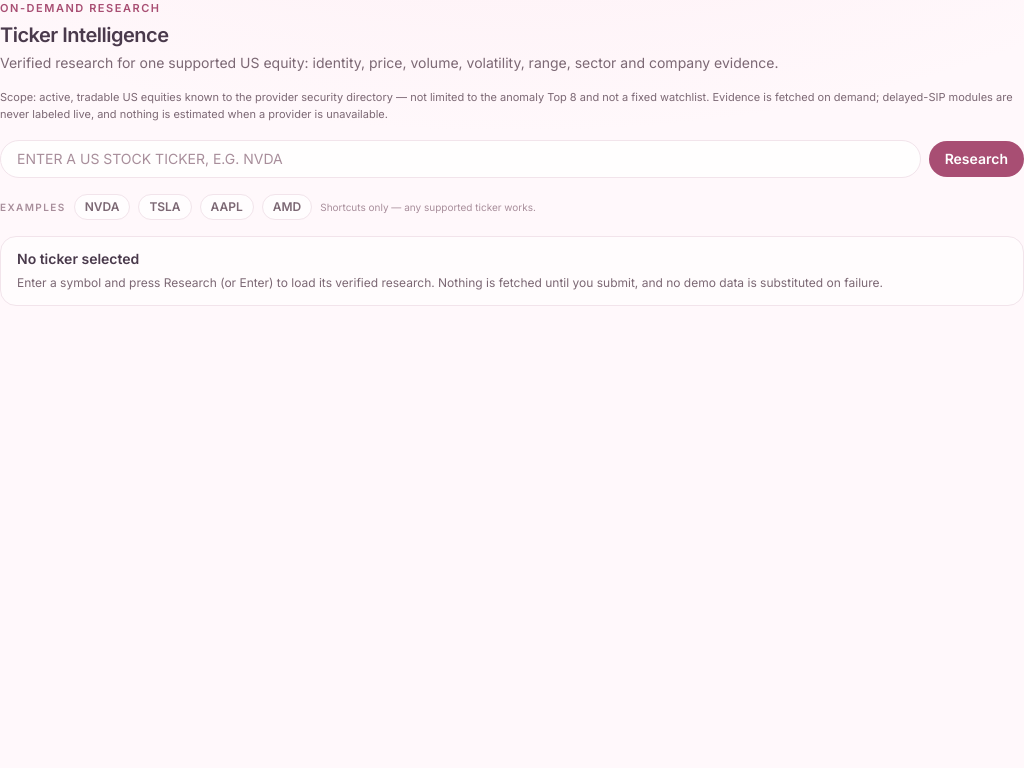
TickerIntelligence › shows session, feed and confidence provenance and separates request time from price time
Type "NVDA" into the field named "US stock ticker symbol" at x=460, y=159, box 0,140 -> 921,178
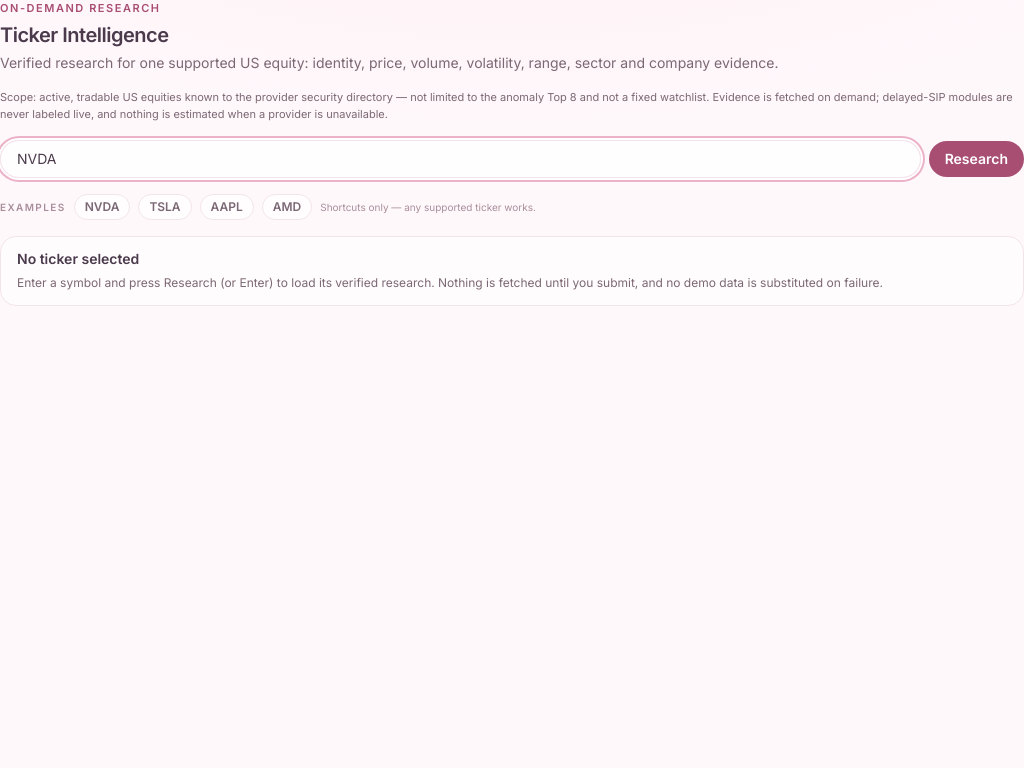
Click the button "Research" at x=976, y=159, box 929,141 -> 1023,177
(page scrolled)
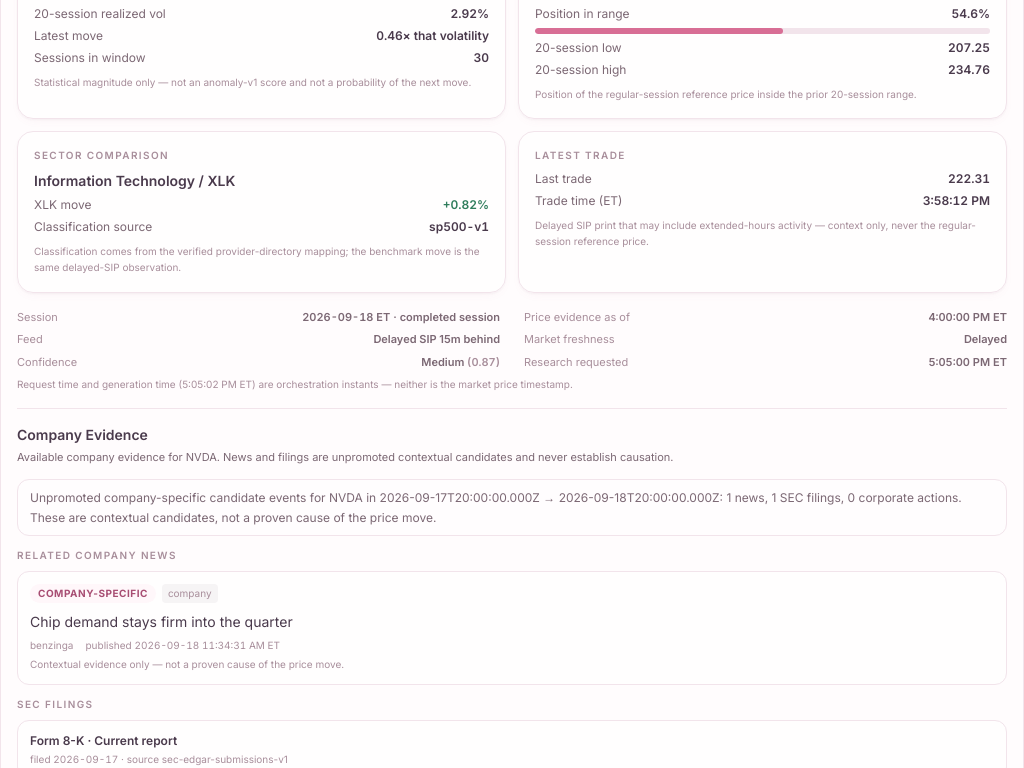
Result: the text "2026-09-18 ET · completed session" is shown at 302,308 -> 500,325
Result: the text "Delayed SIP 15m behind" is shown at 373,331 -> 500,348
Result: the text "medium" is shown at 421,354 -> 464,368
